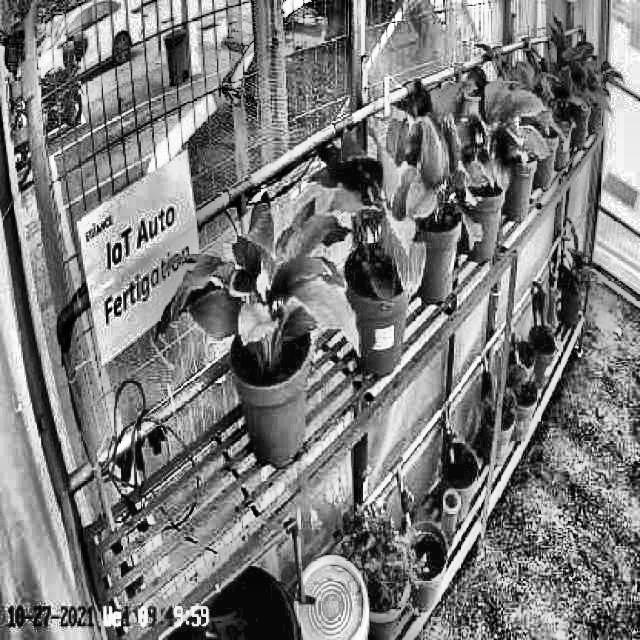plants: (152, 190, 360, 378), (319, 142, 427, 300), (429, 67, 543, 204), (380, 104, 474, 245)
